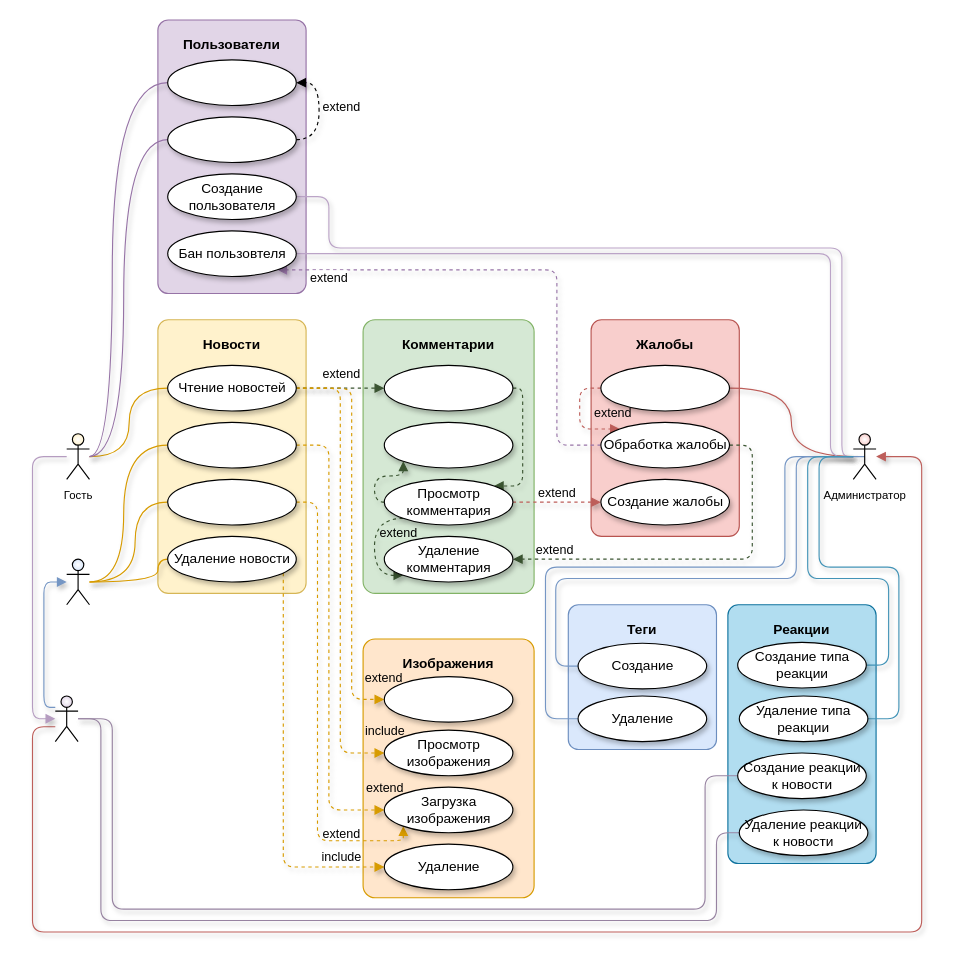
The diagram is 958 pixels wide and 969 high, and some of its shapes have lost their labels. The centre of each missing label's shape, as x and y in pixels:
"Авторизация" goes at point 232,83.
"Информация об изображении" goes at point 449,700.
"Просмотр жалоб" goes at point 665,389.
"Регистрация" goes at point 232,140.
"Редактирование комментария" goes at point 449,446.
"Редактирование новости" goes at point 232,503.
"Репортёр" goes at point 77,581.
"Создание комментария" goes at point 449,389.
"Создание новости" goes at point 232,446.
"Читатель" goes at point 66,718.
